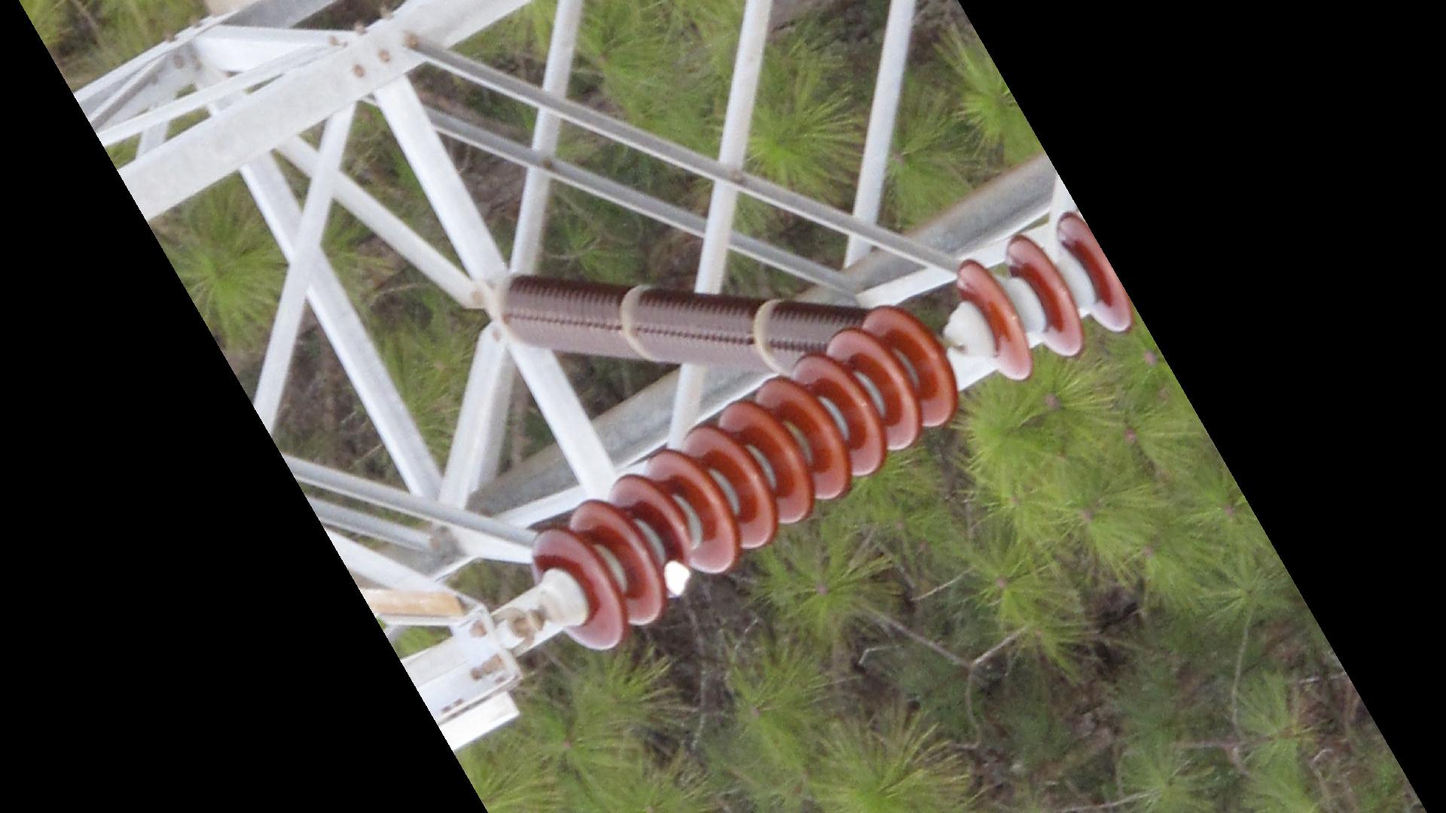insulator: (525, 298, 967, 656), (496, 266, 868, 381), (946, 206, 1142, 388)
insulator_breakage: (656, 553, 697, 603)
